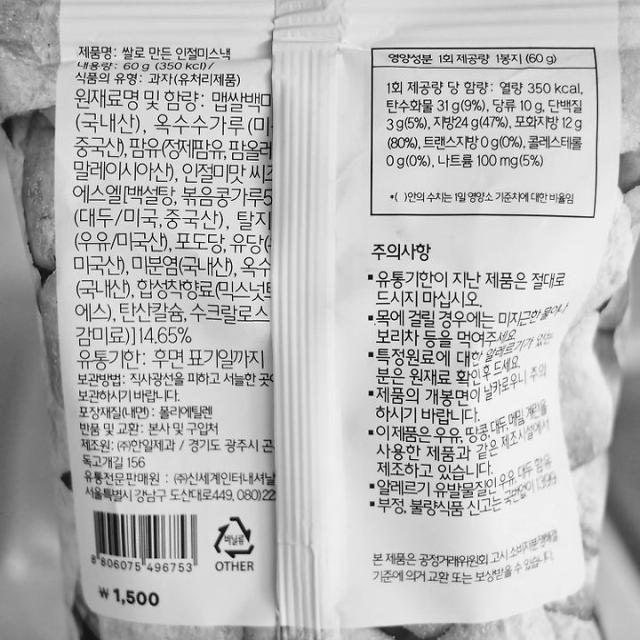Nutrition Label: (363, 36, 607, 225)
